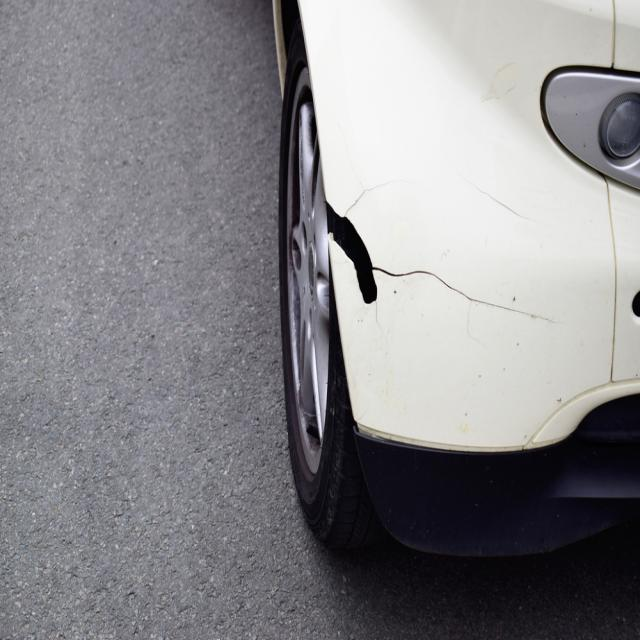crack: (326, 180, 561, 341)
